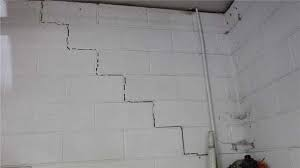stairstep_crack: (38, 0, 207, 157)
